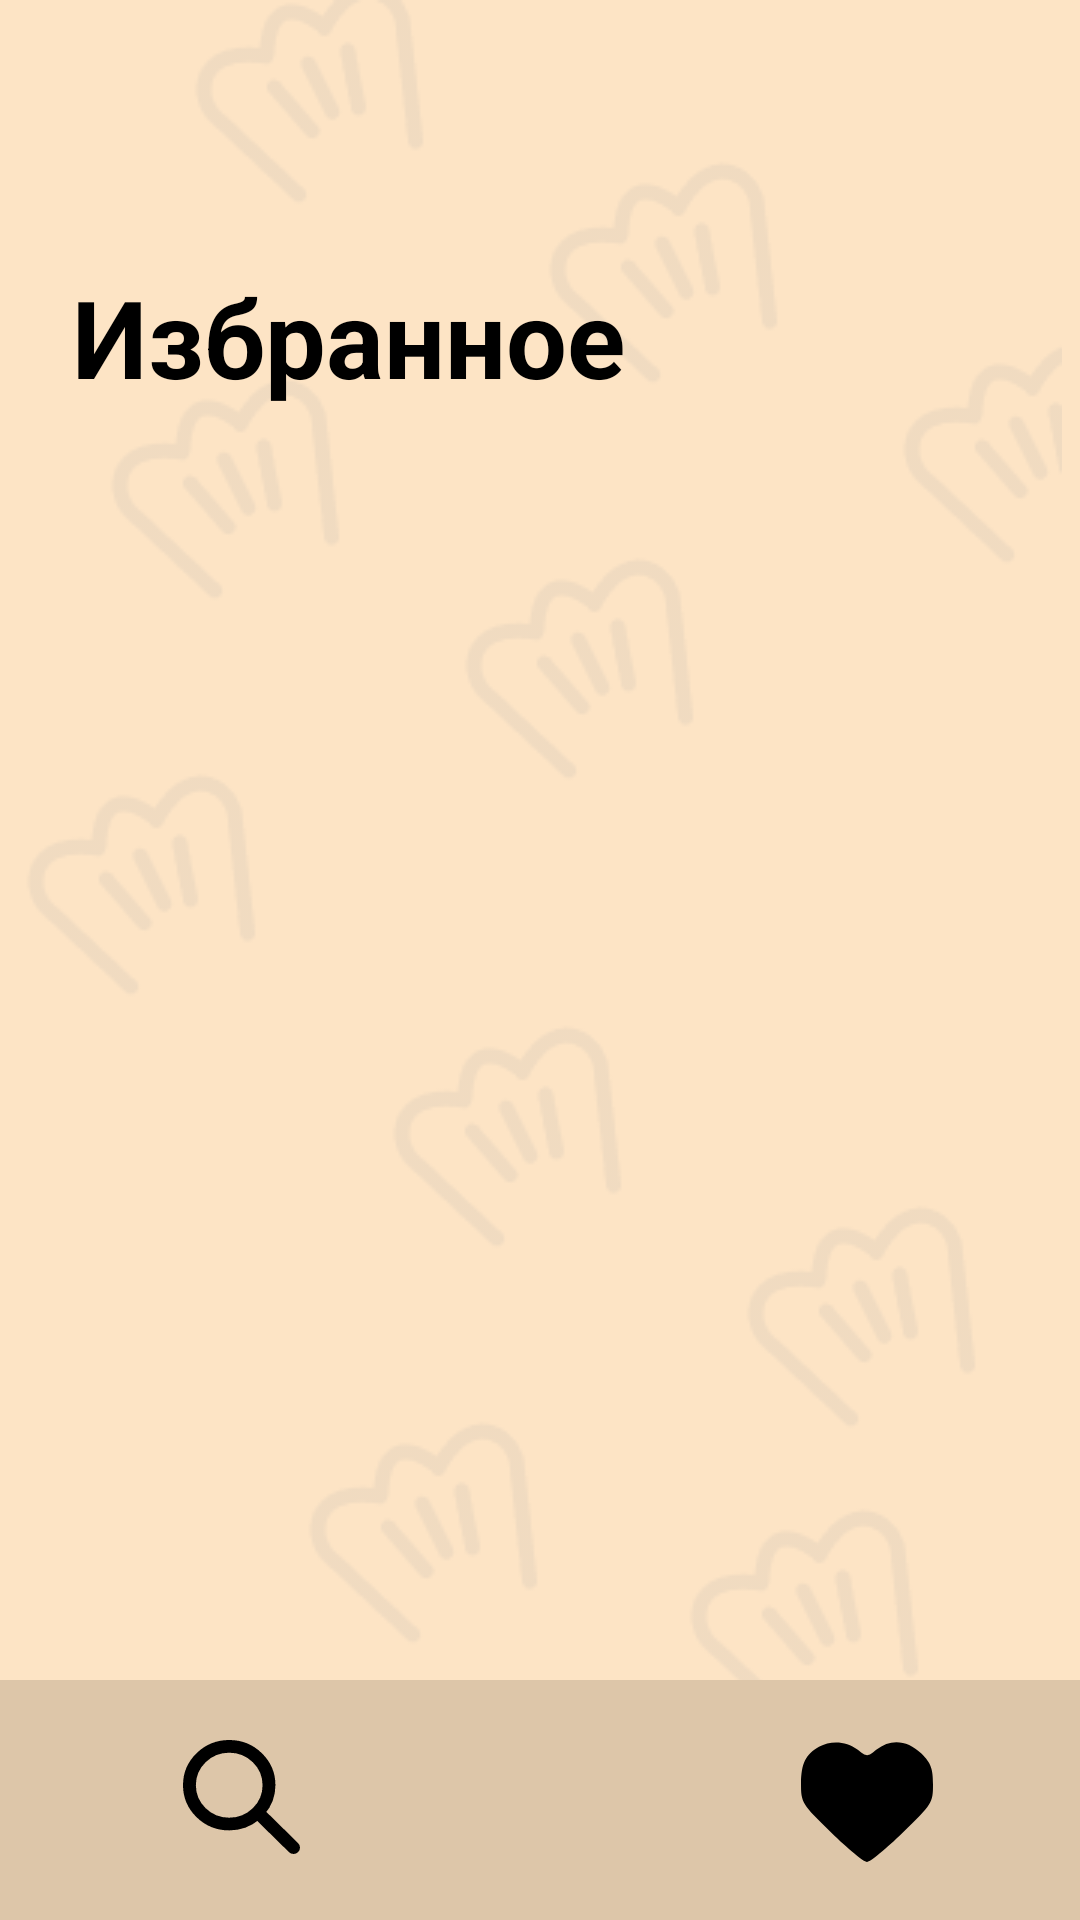

Named icons in this screenshot (1080*1920) and their centers, point (x, y):
fillheart: point (867, 1802)
magnifier: point (241, 1797)
